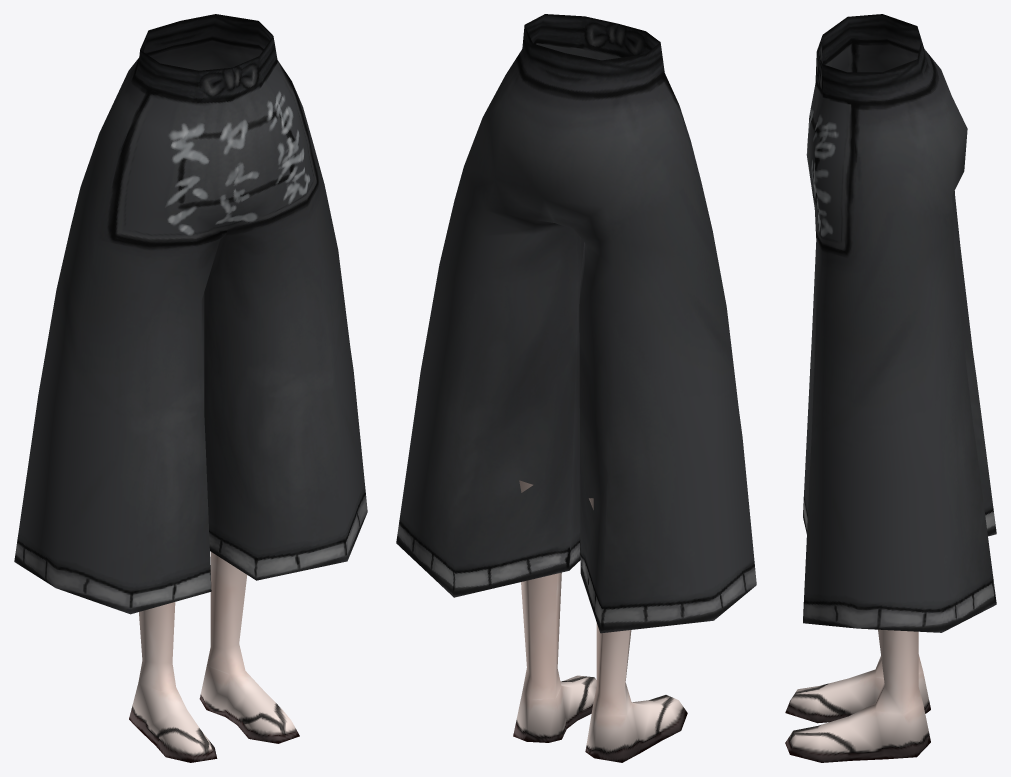
Rendered from CH_Aka_Monk_F_Leg03.FBX.
3 renders of one model, left to right at view 1: azimuth 30°, elevation 25°; view 2: azimuth 150°, elevation 25°; view 3: azimuth 270°, elevation 25°, orthographic. The views are drawn at different scales.
Visible parts, largest first — view 1: CH_Aka_Monk_F_Leg03; view 2: CH_Aka_Monk_F_Leg03; view 3: CH_Aka_Monk_F_Leg03.
Boxes of the visible parts, x1,y1,x2,y2 form: CH_Aka_Monk_F_Leg03: (14, 14, 367, 762); CH_Aka_Monk_F_Leg03: (396, 14, 756, 762); CH_Aka_Monk_F_Leg03: (785, 14, 996, 762).
Size of the model in its own units: 50.3 by 105 by 29.37.
Materials: 1 (1 with a texture image).
